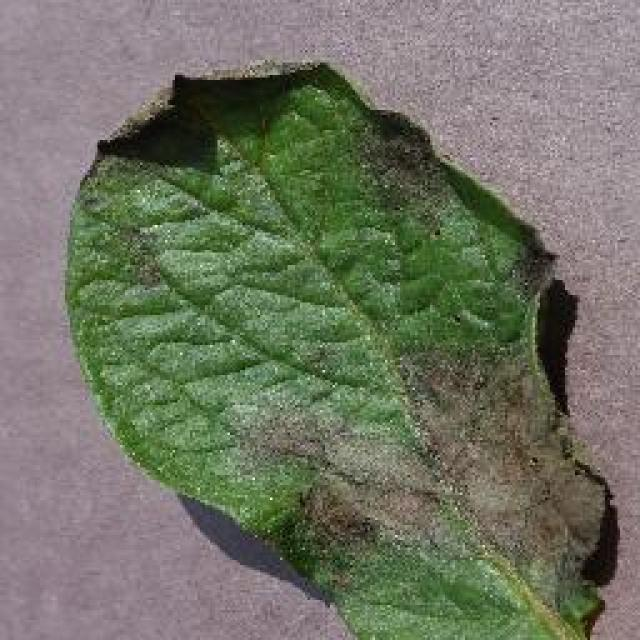late_blight: (60, 55, 620, 637)
